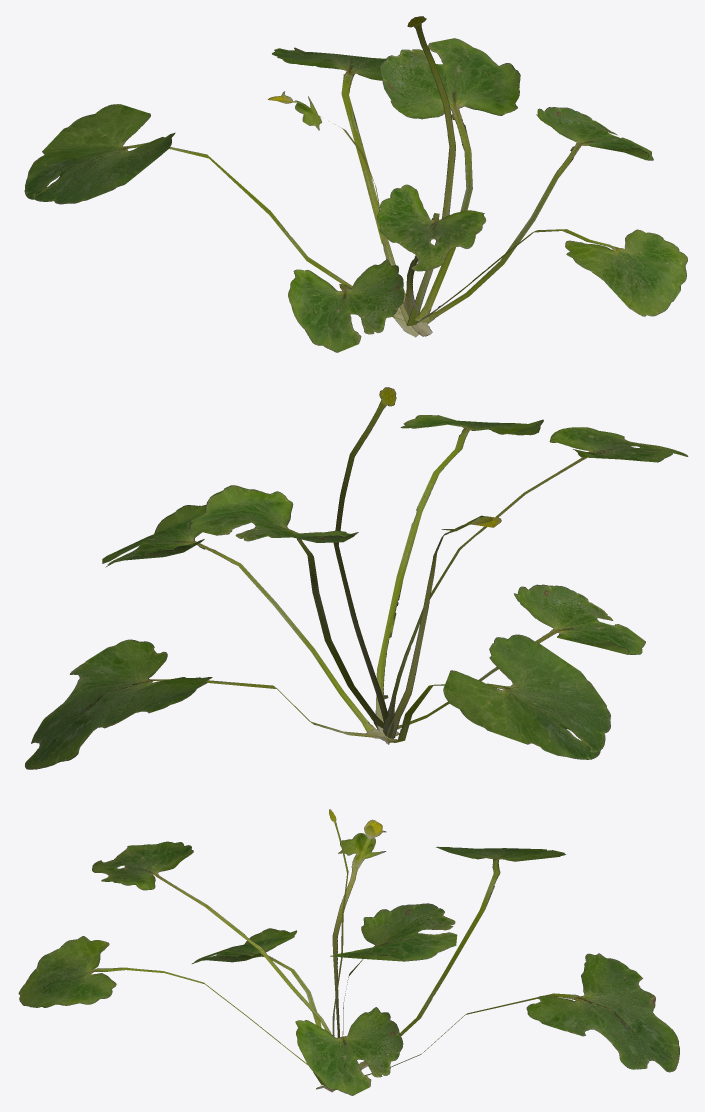
File: celandine_01_b_LOD1.glb
3 views of the same model, one above another, from view 1: azimuth 30°, elevation 25°; view 2: azimuth 150°, elevation 25°; view 3: azimuth 270°, elevation 25° (orthographic). The views are drawn at different scales.
Parts seen in each view (by area): view 1: celandine_01_b_LOD1__lod0; view 2: celandine_01_b_LOD1__lod0; view 3: celandine_01_b_LOD1__lod0.
Part boxes in pixels (bbox=[...]): celandine_01_b_LOD1__lod0: bbox=[24, 16, 687, 352]; celandine_01_b_LOD1__lod0: bbox=[25, 387, 688, 769]; celandine_01_b_LOD1__lod0: bbox=[18, 809, 679, 1095].
Size of what is drawn, in the model's own units: 0.2531 by 0.1431 by 0.3106.
Materials: 1 (1 with a texture image).
